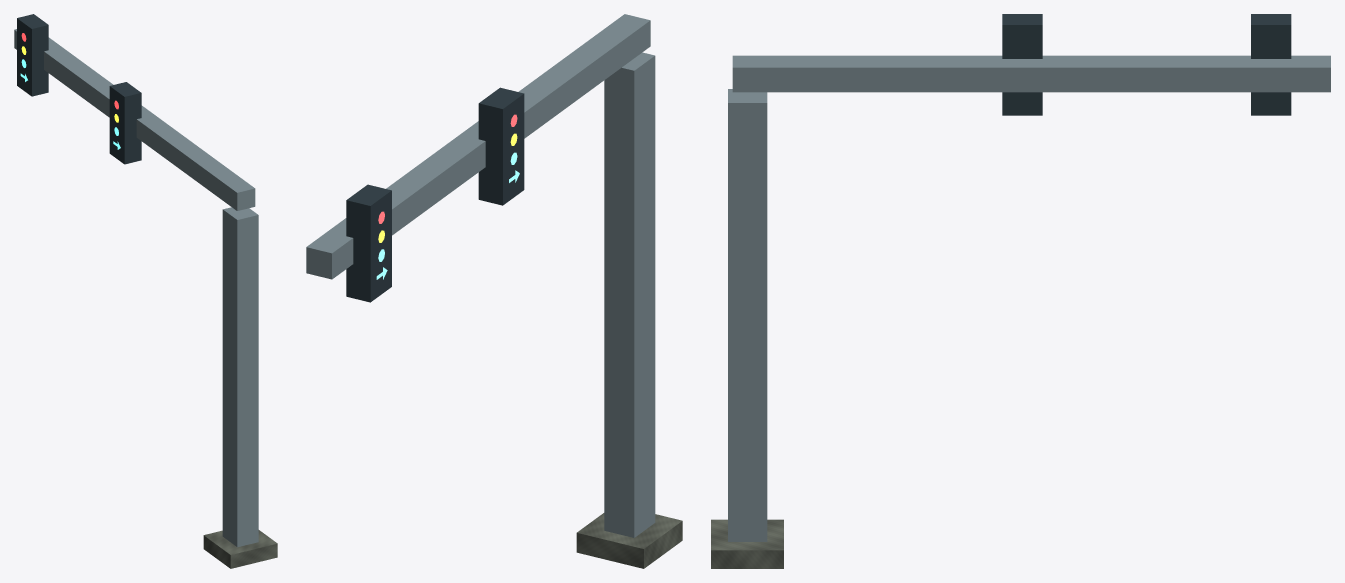
Rendered from signal_gantry_4aspect_LOD0.glb.
The picture shows the model from 3 angles, left to right: view 1: azimuth 30°, elevation 25°; view 2: azimuth 150°, elevation 25°; view 3: azimuth 270°, elevation 25°; orthographic projection. The views are drawn at different scales.
Parts seen in each view (by area): view 1: signal_gantry_4aspect__gantry_support, signal_gantry_4aspect__head_housing; view 2: signal_gantry_4aspect__gantry_support, signal_gantry_4aspect__head_housing; view 3: signal_gantry_4aspect__gantry_support, signal_gantry_4aspect__head_housing.
Boxes of the visible parts, x1,y1,x2,y2 form: signal_gantry_4aspect__gantry_support: [14, 29, 277, 568]; signal_gantry_4aspect__head_housing: [17, 14, 141, 164]; signal_gantry_4aspect__gantry_support: [306, 14, 682, 568]; signal_gantry_4aspect__head_housing: [346, 87, 524, 302]; signal_gantry_4aspect__gantry_support: [711, 55, 1330, 568]; signal_gantry_4aspect__head_housing: [1002, 14, 1291, 115].
Size of the model in its own units: 0.78 by 6.2 by 6.63.
Materials: 6 (1 with a texture image).
